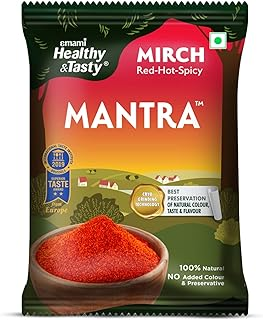Chilli Powder: (21, 2, 250, 315)
